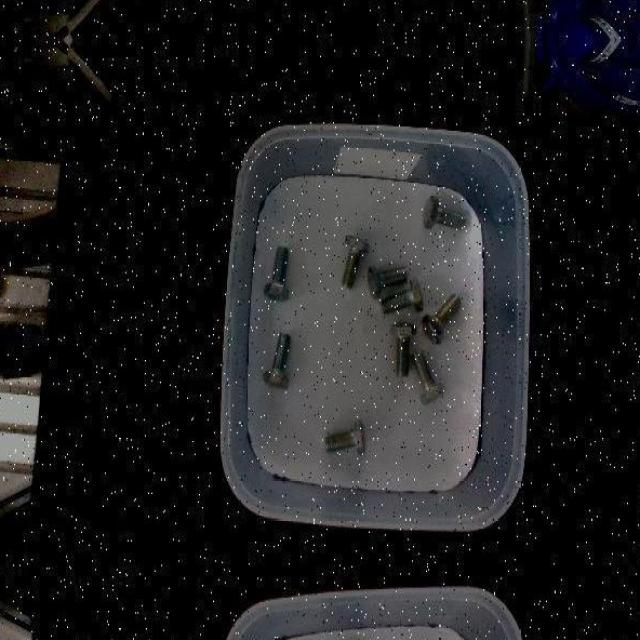screw: (422, 293, 462, 343), (412, 348, 445, 404), (263, 330, 291, 388), (324, 419, 366, 457), (382, 277, 424, 314), (342, 234, 369, 290), (264, 246, 290, 302), (392, 321, 418, 377), (422, 195, 464, 229), (367, 264, 408, 297)
